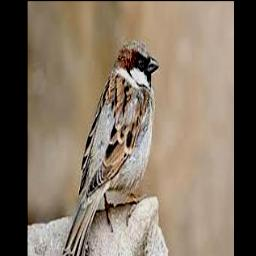Sparrow: (61, 39, 160, 256)
